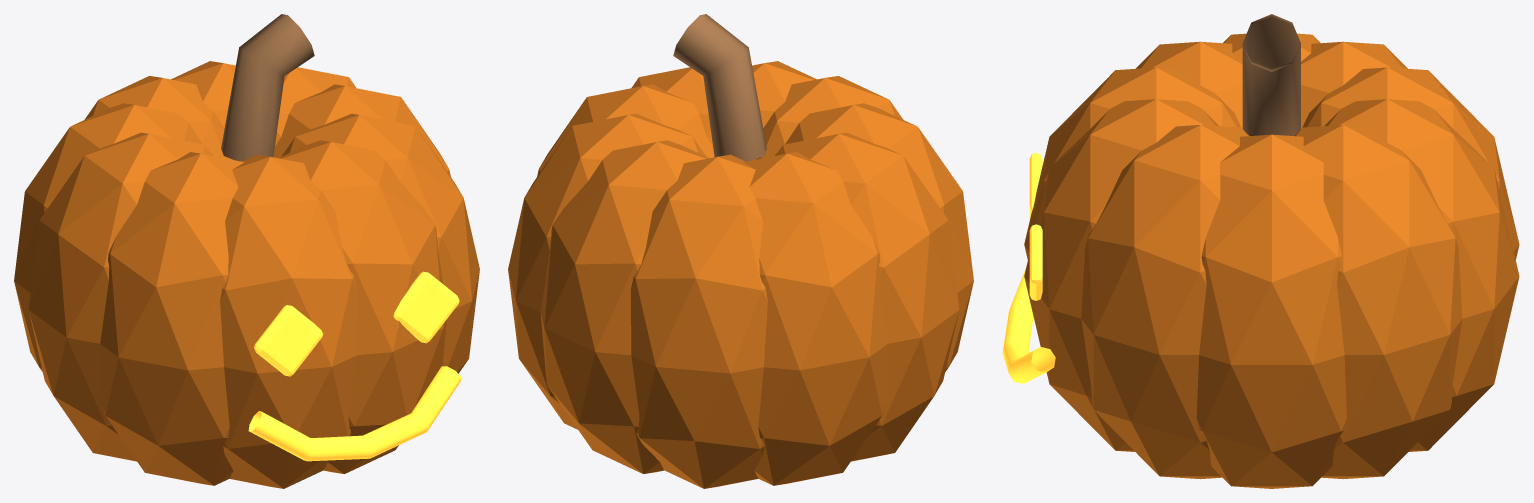
The model's file is pumpkin.glb.
3 renders of one model, left to right at view 1: azimuth 30°, elevation 25°; view 2: azimuth 150°, elevation 25°; view 3: azimuth 270°, elevation 25°, orthographic. The views are drawn at different scales.
Visible parts, largest first — view 1: pumpkin_rib.006, pumpkin_rib.007, pumpkin_rib.008, pumpkin_rib.005, pumpkin_rib.009, pumpkin_rib.004, pumpkin_stem, pumpkin_smile, pumpkin_rib, pumpkin_rib.003, pumpkin_glowing_eye, pumpkin_glowing_eye.001 (+2 smaller); view 2: pumpkin_rib.003, pumpkin_rib.004, pumpkin_rib.002, pumpkin_rib.005, pumpkin_rib.001, pumpkin_rib.006, pumpkin_stem, pumpkin_rib, pumpkin_rib.007, pumpkin_rib.008, pumpkin_rib.009; view 3: pumpkin_rib, pumpkin_rib.001, pumpkin_rib.009, pumpkin_rib.002, pumpkin_rib.008, pumpkin_stem, pumpkin_rib.003, pumpkin_rib.007, pumpkin_rib.006, pumpkin_rib.004, pumpkin_smile, pumpkin_glowing_eye.001 (+2 smaller).
Part boxes in pixels (<box>): pumpkin_rib.006: <box>100,152,244,485</box>; pumpkin_rib.007: <box>220,154,356,488</box>; pumpkin_rib.008: <box>279,140,446,473</box>; pumpkin_rib.005: <box>28,132,212,461</box>; pumpkin_rib.009: <box>281,113,479,373</box>; pumpkin_rib.004: <box>14,103,212,371</box>; pumpkin_stem: <box>221,14,314,161</box>; pumpkin_smile: <box>248,366,461,461</box>; pumpkin_rib: <box>273,84,450,176</box>; pumpkin_rib.003: <box>84,76,232,159</box>; pumpkin_glowing_eye: <box>254,305,322,376</box>; pumpkin_glowing_eye.001: <box>393,271,459,343</box>; pumpkin_rib.003: <box>631,154,767,488</box>; pumpkin_rib.004: <box>743,152,887,485</box>; pumpkin_rib.002: <box>540,140,708,473</box>; pumpkin_rib.005: <box>775,132,959,461</box>; pumpkin_rib.001: <box>508,113,706,429</box>; pumpkin_rib.006: <box>775,103,973,371</box>; pumpkin_stem: <box>673,14,766,161</box>; pumpkin_rib: <box>537,84,714,176</box>; pumpkin_rib.007: <box>755,76,903,159</box>; pumpkin_rib.008: <box>752,61,816,159</box>; pumpkin_rib.009: <box>631,67,712,145</box>; pumpkin_rib: <box>1196,134,1346,488</box>; pumpkin_rib.001: <box>1294,125,1462,479</box>; pumpkin_rib.009: <box>1081,125,1248,479</box>; pumpkin_rib.002: <box>1324,99,1519,451</box>; pumpkin_rib.008: <box>1024,99,1218,451</box>; pumpkin_stem: <box>1242,14,1300,135</box>; pumpkin_rib.003: <box>1302,67,1519,259</box>; pumpkin_rib.007: <box>1024,67,1240,259</box>; pumpkin_rib.006: <box>1136,41,1242,128</box>; pumpkin_rib.004: <box>1301,41,1407,128</box>; pumpkin_smile: <box>1002,268,1055,383</box>; pumpkin_glowing_eye.001: <box>1029,224,1042,300</box>.
Size of the model in its own units: 0.9355 by 0.9298 by 0.9786.
